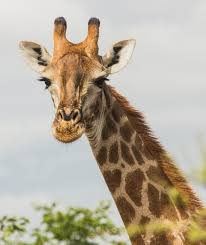Jirafa: (14, 8, 175, 192)
